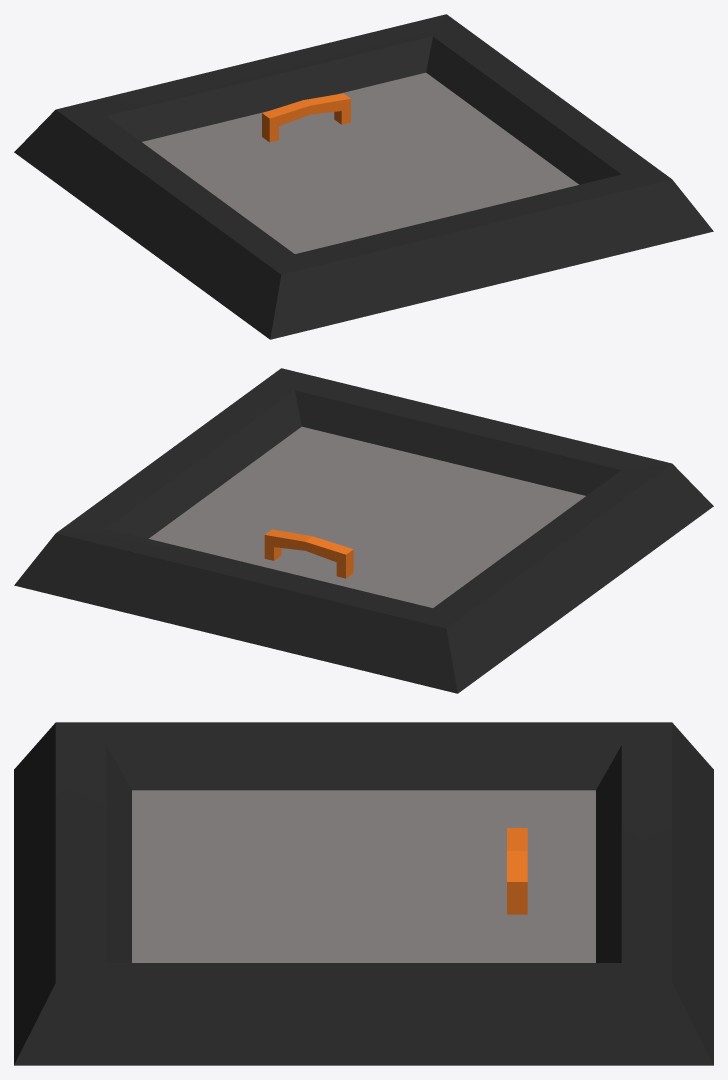
Rendered from scifi_scifi-hatch.fbx.
3 renders of one model, top to bottom at view 1: azimuth 30°, elevation 25°; view 2: azimuth 150°, elevation 25°; view 3: azimuth 270°, elevation 25°, orthographic. The views are drawn at different scales.
Visible parts, largest first — view 1: scifi_scifi_hatch; view 2: scifi_scifi_hatch; view 3: scifi_scifi_hatch.
Part boxes in pixels (x1,y1,x2,y2): scifi_scifi_hatch: (14, 14, 713, 339); scifi_scifi_hatch: (14, 368, 713, 693); scifi_scifi_hatch: (14, 722, 713, 1065).
Size of the model in its own units: 200 by 20.76 by 200.
